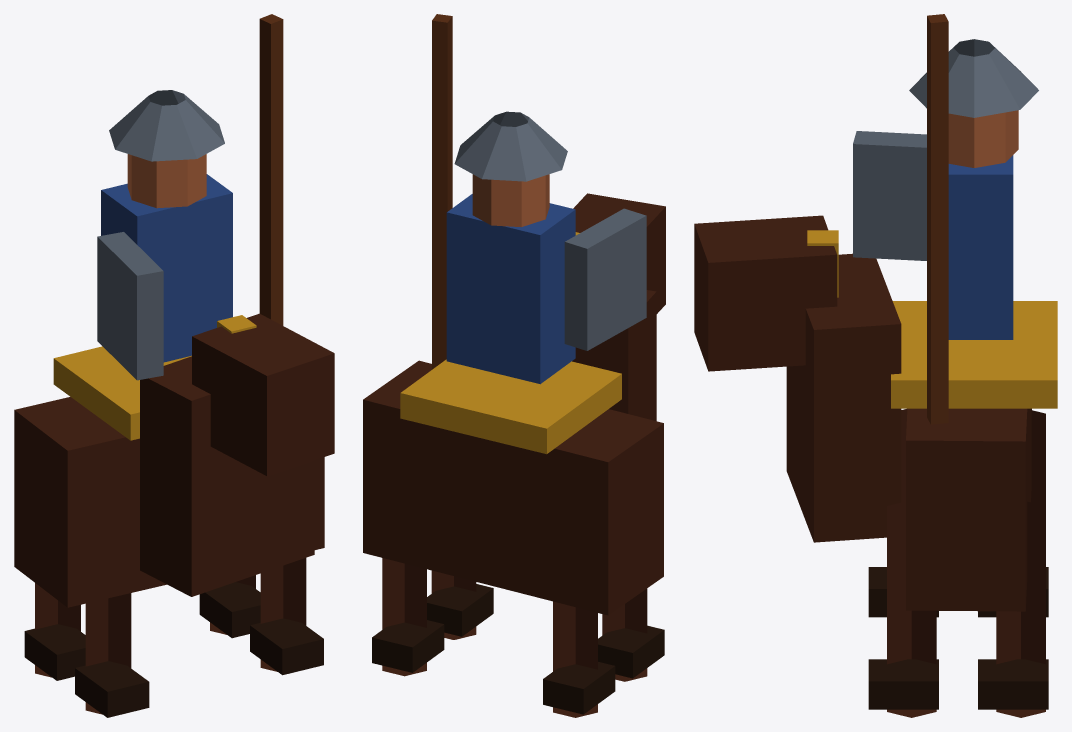
File: Horseman_authoring.obj
The picture shows the model from 3 angles, left to right: view 1: azimuth 30°, elevation 25°; view 2: azimuth 150°, elevation 25°; view 3: azimuth 270°, elevation 25°; orthographic projection. The views are drawn at different scales.
Parts seen in each view (by area): view 1: HorseChest, HorseBody, HorseHead, RiderTorso, Shield, Lance, RiderHelm, Saddle, RiderHead, HorseHoof_-0.42_0.22, HorseHoof_0.42_0.22, HorseLeg_-0.42_0.22 (+4 smaller); view 2: HorseBody, RiderTorso, Saddle, Shield, Lance, RiderHelm, HorseChest, RiderHead, HorseHead, HorseLeg_0.42_-0.2, HorseLeg_-0.42_-0.2, HorseHoof_0.42_-0.2 (+5 smaller); view 3: HorseChest, HorseBody, HorseHead, Saddle, RiderTorso, Shield, Lance, RiderHelm, HorseLeg_0.42_0.22, HorseLeg_0.42_-0.2, RiderHead, HorseHoof_0.42_0.22 (+4 smaller).
Part boxes in pixels (box(x1,y1,x2,y2)): HorseChest: box(140, 356, 314, 596); HorseBody: box(14, 397, 324, 607); HorseHead: box(192, 313, 334, 476); RiderTorso: box(101, 174, 232, 362); Shield: box(97, 232, 163, 380); Lance: box(259, 14, 283, 325); RiderHelm: box(109, 90, 224, 161); Saddle: box(53, 346, 191, 440); RiderHead: box(127, 154, 206, 208); HorseHoof_-0.42_0.22: box(75, 661, 149, 717); HorseHoof_0.42_0.22: box(250, 618, 323, 675); HorseLeg_-0.42_0.22: box(85, 593, 131, 714); HorseBody: box(363, 360, 663, 615); RiderTorso: box(446, 194, 575, 384); Saddle: box(400, 359, 621, 454); Shield: box(564, 208, 646, 350); Lance: box(432, 14, 452, 369); RiderHelm: box(454, 111, 567, 181); HorseChest: box(572, 290, 656, 421); RiderHead: box(472, 174, 549, 227); HorseHead: box(573, 193, 665, 313); HorseLeg_0.42_-0.2: box(382, 558, 426, 676); HorseLeg_-0.42_-0.2: box(553, 601, 597, 717); HorseHoof_0.42_-0.2: box(372, 620, 444, 672); HorseChest: box(786, 253, 901, 542); HorseBody: box(906, 408, 1031, 611); HorseHead: box(694, 215, 837, 371); Saddle: box(891, 301, 1057, 408); RiderTorso: box(948, 155, 1013, 339); Shield: box(853, 131, 926, 260); Lance: box(927, 14, 948, 424); RiderHelm: box(909, 39, 1038, 117); HorseLeg_0.42_0.22: box(887, 501, 936, 717); HorseLeg_0.42_-0.2: box(996, 501, 1045, 717); RiderHead: box(948, 110, 1018, 167); HorseHoof_0.42_0.22: box(868, 659, 938, 709).
Bounding box in the file's own units: 1.23 × 2.91 × 1.39.
